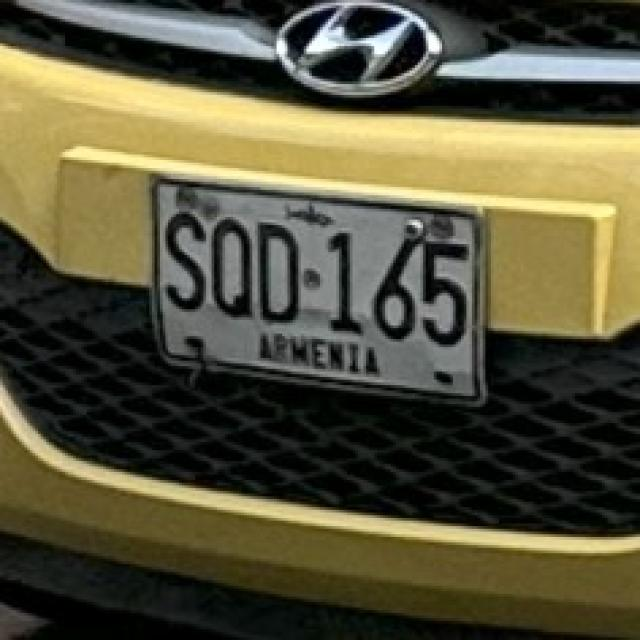number plate: (152, 176, 480, 399)
